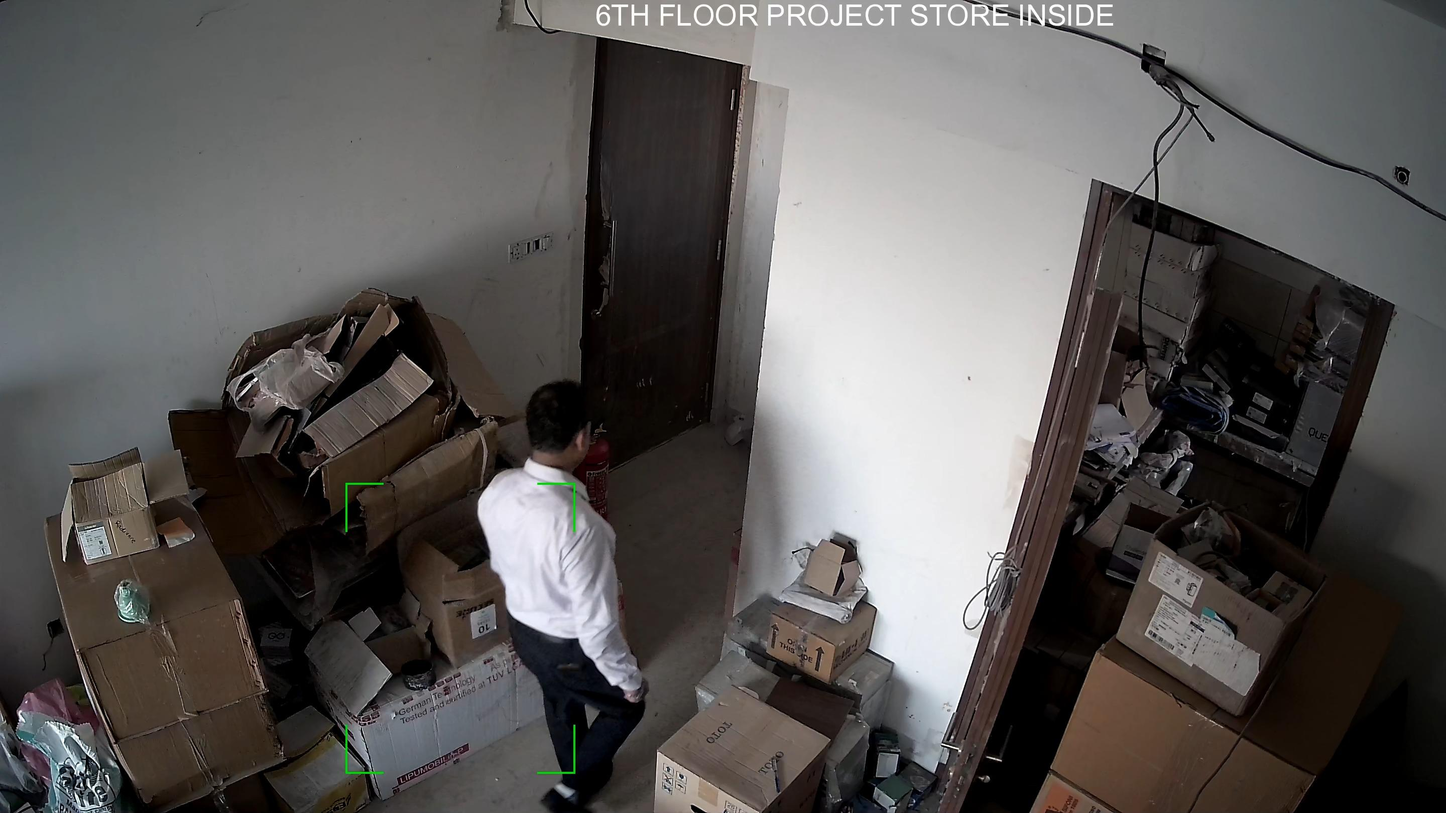Door-Close: (561, 29, 743, 455)
